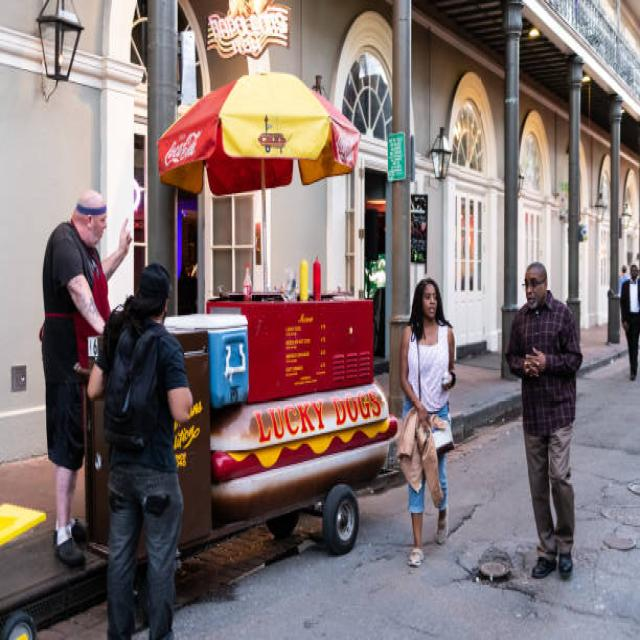Emperan: (35, 39, 410, 601)
